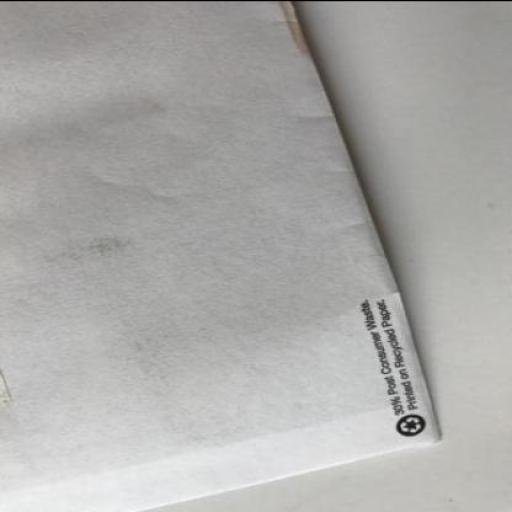paper: (0, 1, 442, 511)
